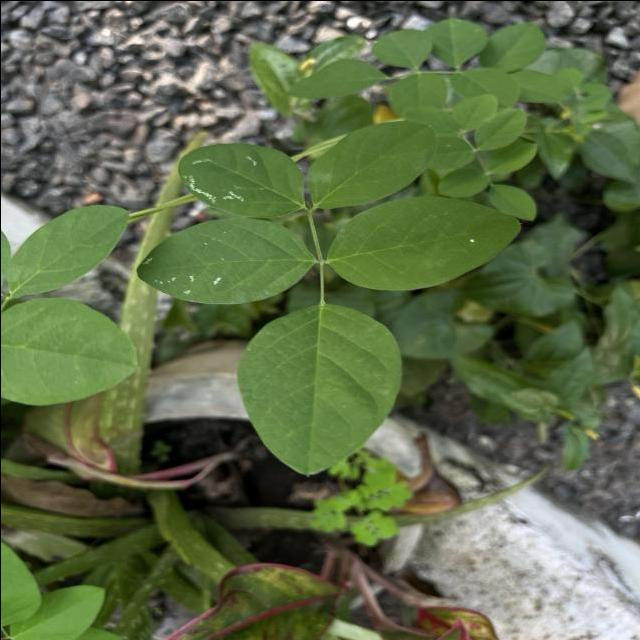Clitoria ternatea: (234, 300, 404, 478), (324, 194, 521, 292), (134, 215, 314, 305), (304, 118, 438, 209), (175, 142, 305, 218)
